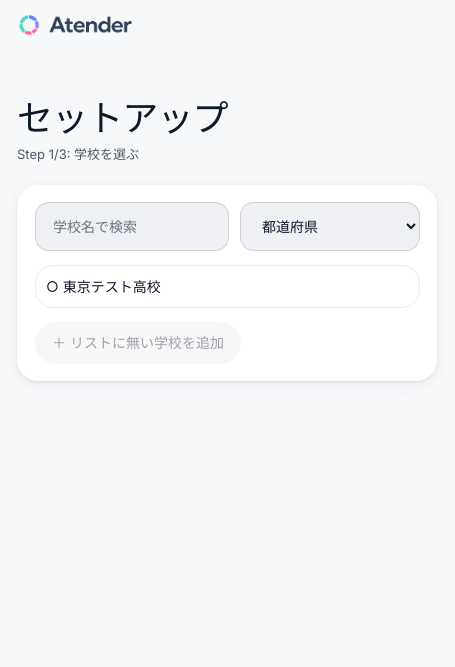
Test: [S] onboarding › [S8] select card -> use -> semester step with 取り込む時間割
Expected: the text "Step 1/3: 学校を選ぶ" is shown, [17,146,139,162]
Click the button "○ 東京テスト高校": (112, 286) [34,265,420,308]
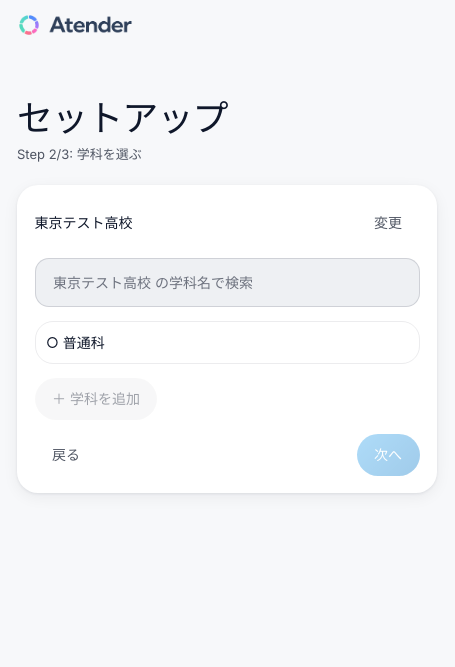
Expected: the text "Step 2/3: 学科を選ぶ" is shown, [17,146,142,162]
Click the button "○ 普通科": (84, 342) [34,321,420,364]
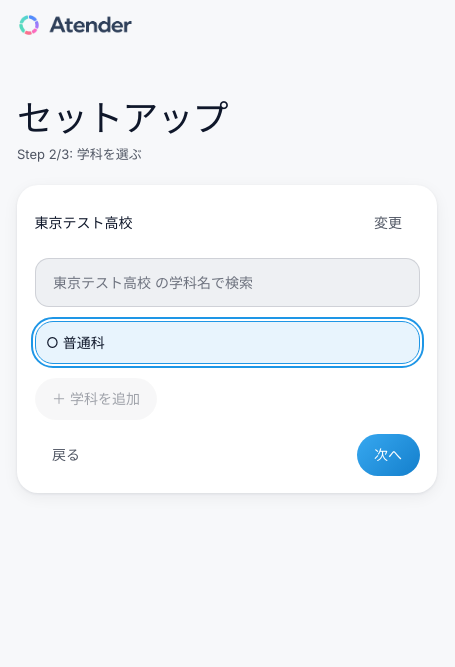
Click the button "次へ": (388, 455) [356,434,420,476]
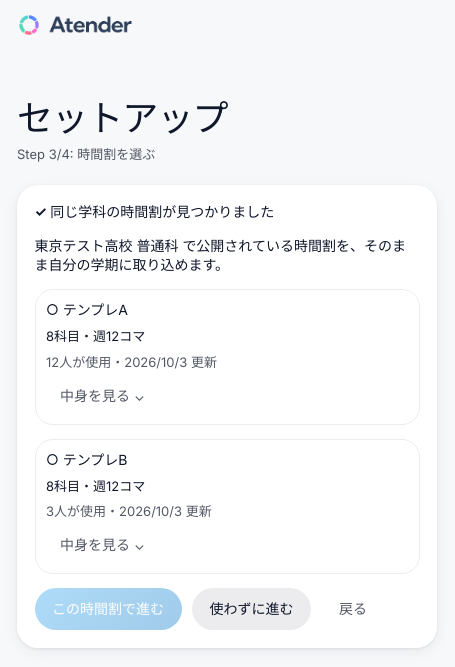
Expected: the text "Step 3/4: 時間割を選ぶ" is shown, [17,146,155,162]
Click the button "○ テンプレA": (95, 310) [46,300,408,320]
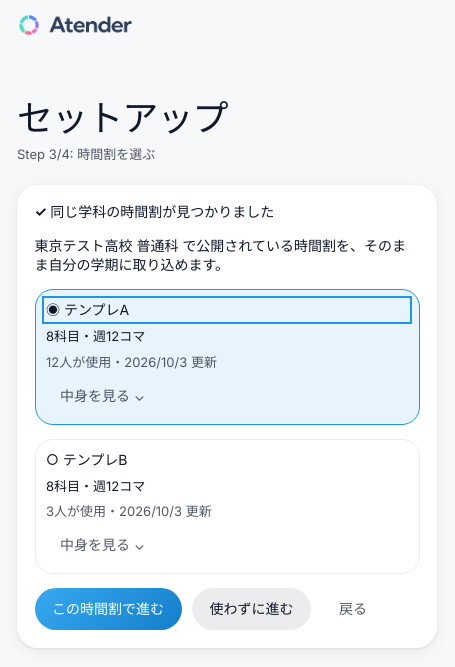
Expected: the button "◉ テンプレA" is pressed, [46,300,408,320]
Click the button with test id "setup-template-use": (108, 609) [34,588,182,630]
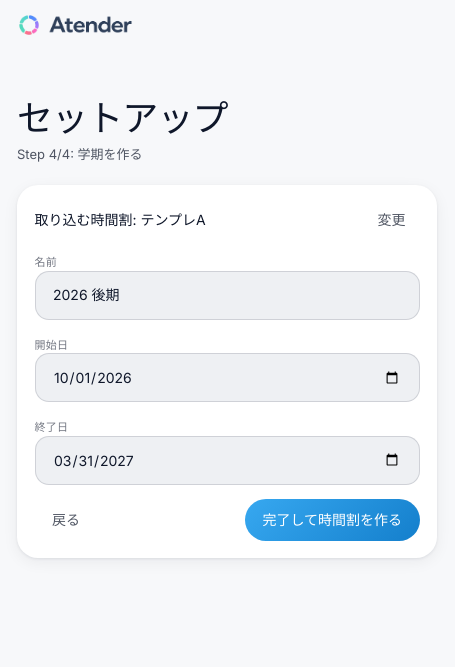
Expected: the text "Step 4/4: 学期を作る" is shown, [17,146,142,162]
Expected: the text "取り込む時間割: テンプレA" is shown, [34,210,206,229]
Expected: the button "変更" is shown, [364,202,420,237]
